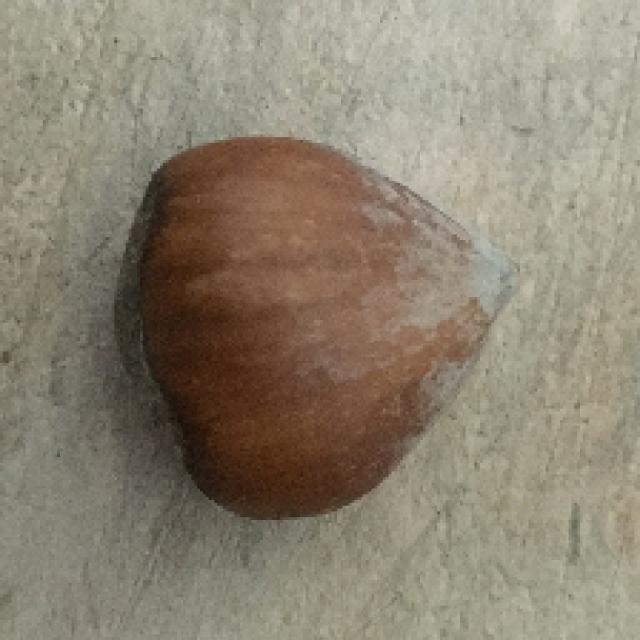damagedHazelnut: (108, 126, 516, 536)
